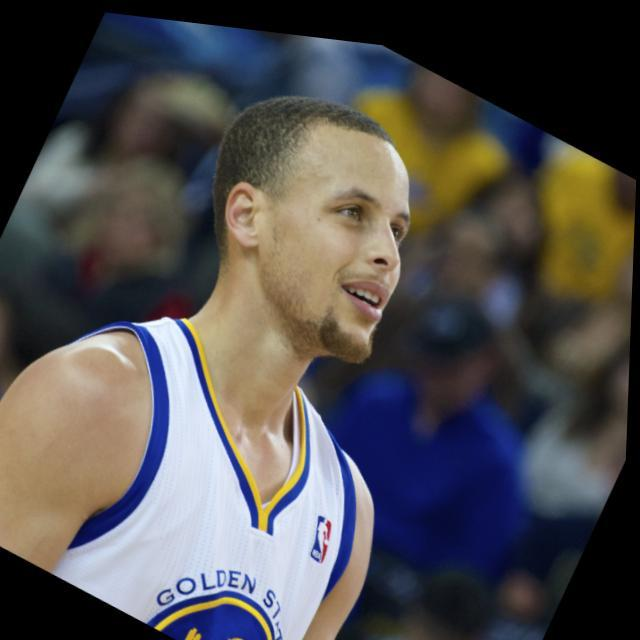Nonhelmet: (202, 79, 412, 386)
